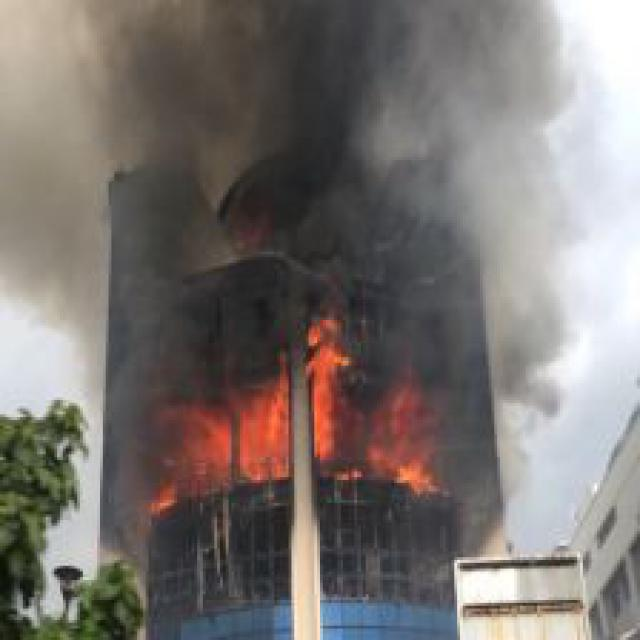fire: (126, 303, 463, 511)
